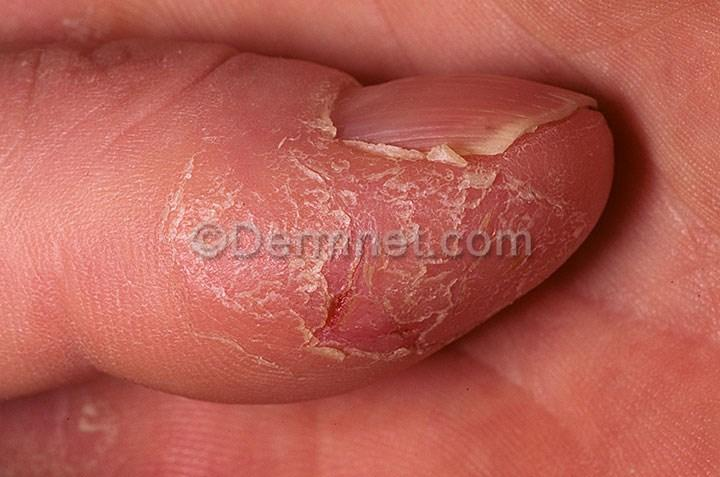Eczema: (183, 257, 490, 369), (309, 142, 473, 227), (144, 137, 281, 217), (45, 393, 134, 462), (496, 167, 593, 222)
